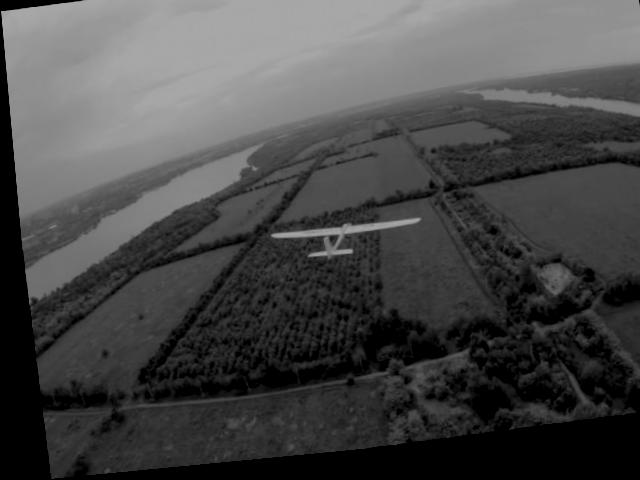hedef: (247, 204, 423, 289)
